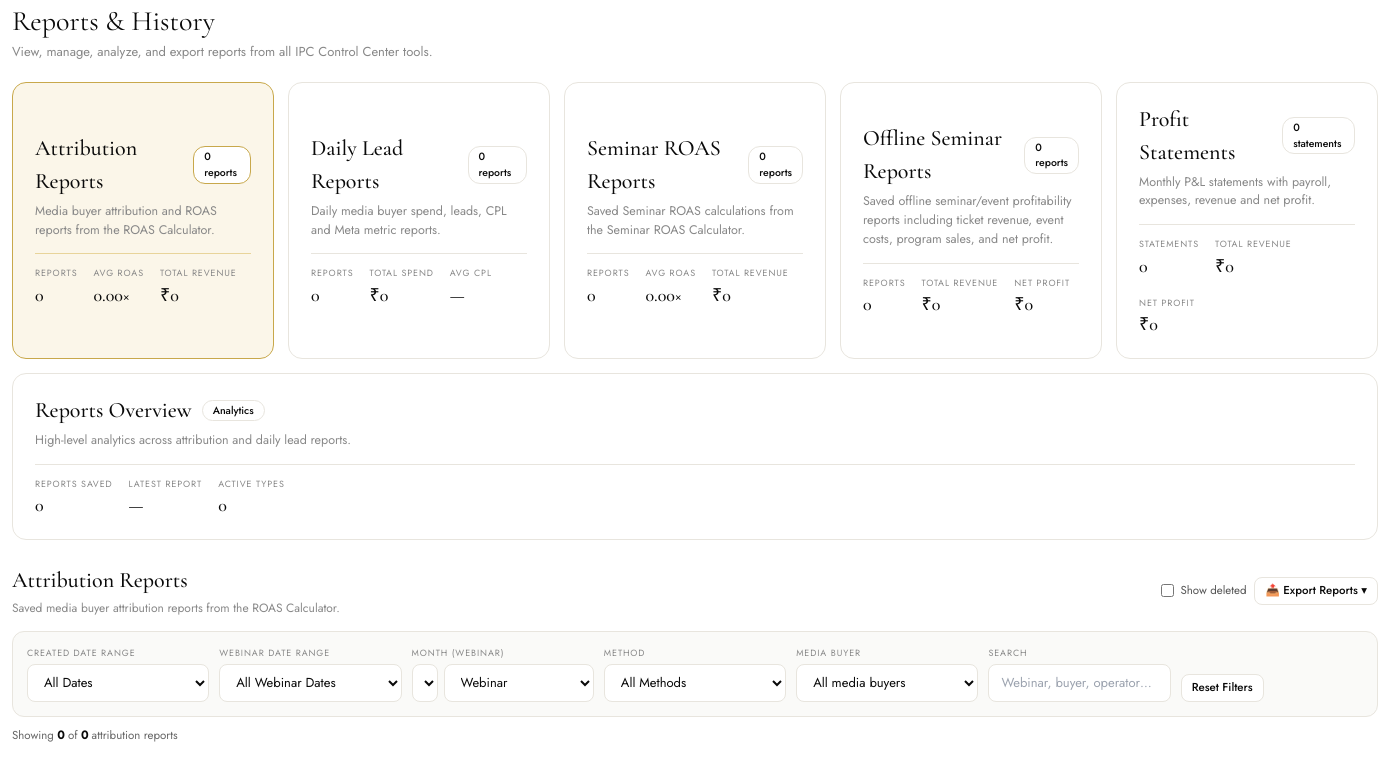
Reports List Queries Narrowing Test › should render seminar_roas_reports list with mocked data
This screenshot has width=1390, height=768.
What coordinates should you click on to do the following:
click the button "Seminar ROAS Reports"
I would click on:
 (695, 220)
Its box is x1=564 y1=82 x2=826 y2=359.
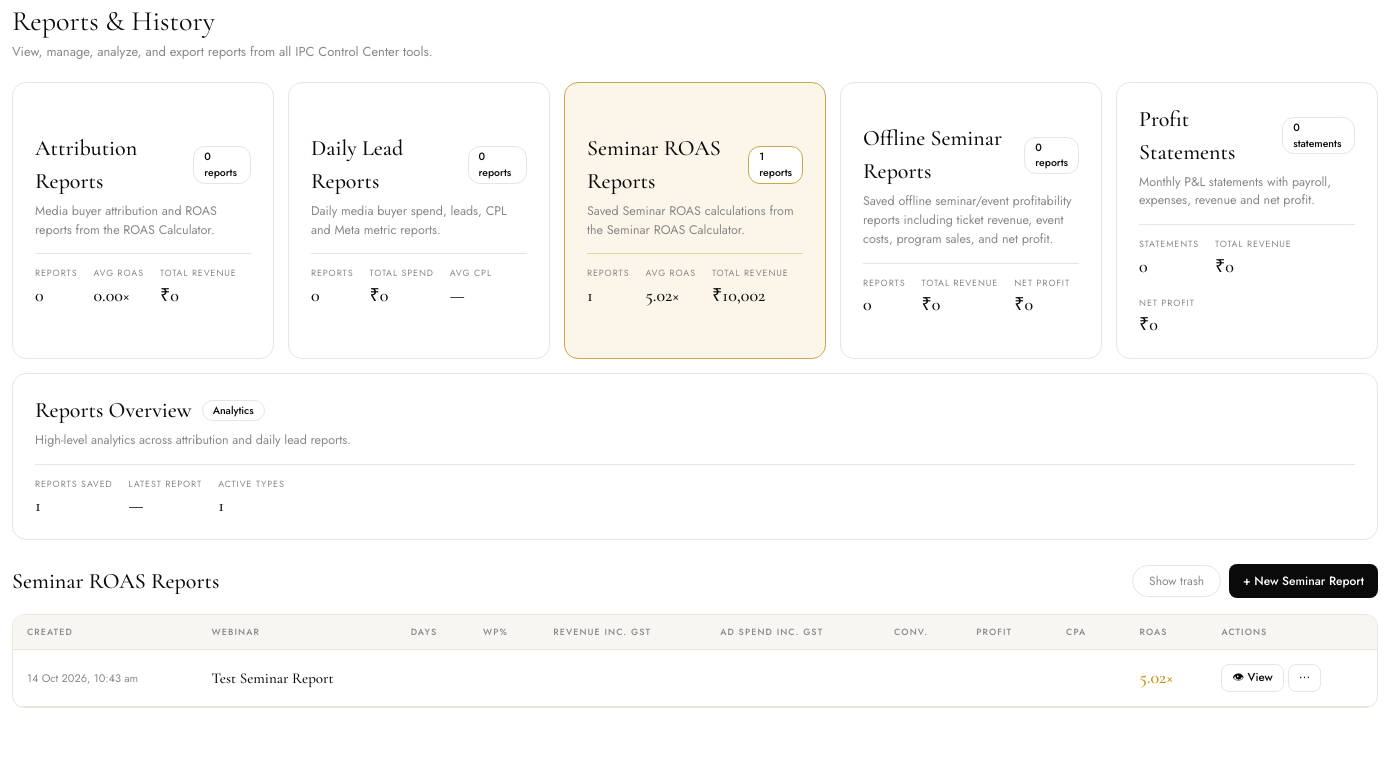
Expected: the text "Test Seminar Report" is shown, x1=198 y1=649 x2=397 y2=706
